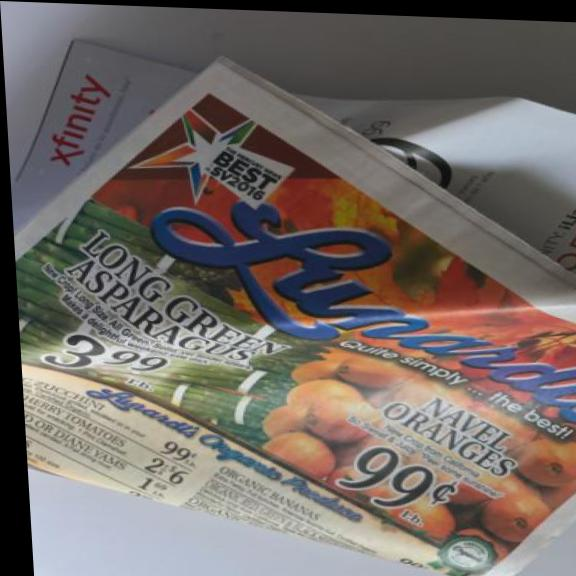Kertas: (4, 26, 576, 576)
